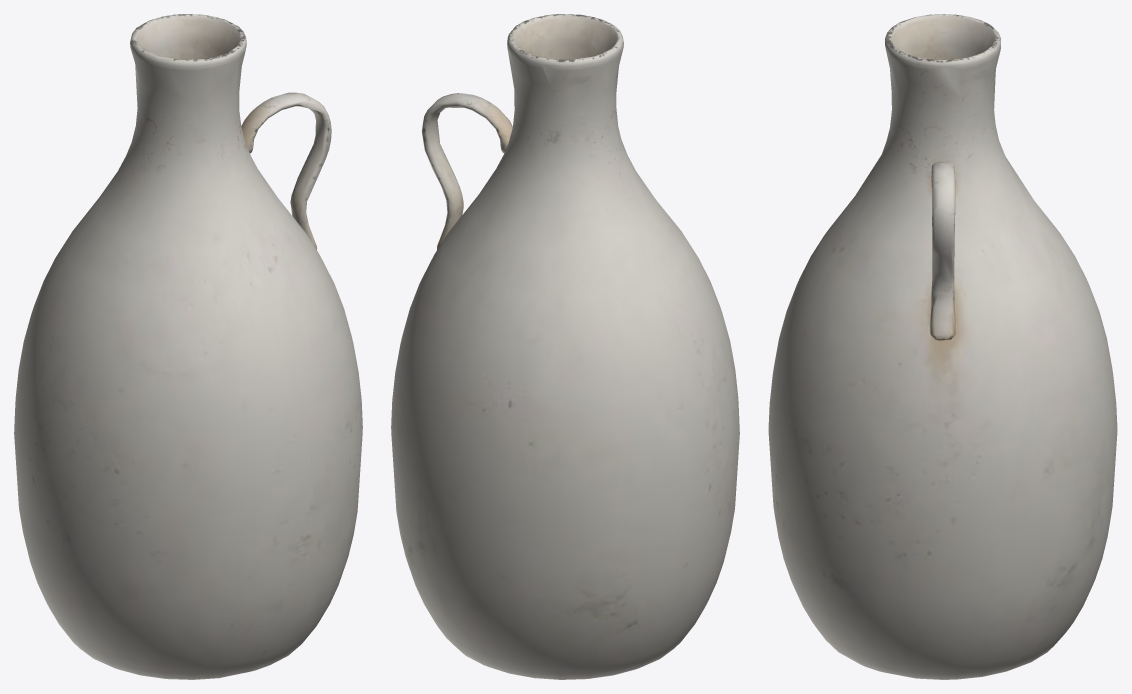
Rendered from ceramic_vase_04.glb.
The picture shows the model from 3 angles, left to right: view 1: azimuth 30°, elevation 25°; view 2: azimuth 150°, elevation 25°; view 3: azimuth 270°, elevation 25°; orthographic projection.
Visible parts, largest first — view 1: ceramic_vase_04; view 2: ceramic_vase_04; view 3: ceramic_vase_04.
Boxes of the visible parts, box(x1,y1,x2,y2) form: ceramic_vase_04: box(14, 14, 362, 679); ceramic_vase_04: box(391, 14, 739, 679); ceramic_vase_04: box(768, 14, 1117, 679).
Bounding box in the file's own units: 0.1811 × 0.3419 × 0.1811.
Materials: 1 (1 with a texture image).
